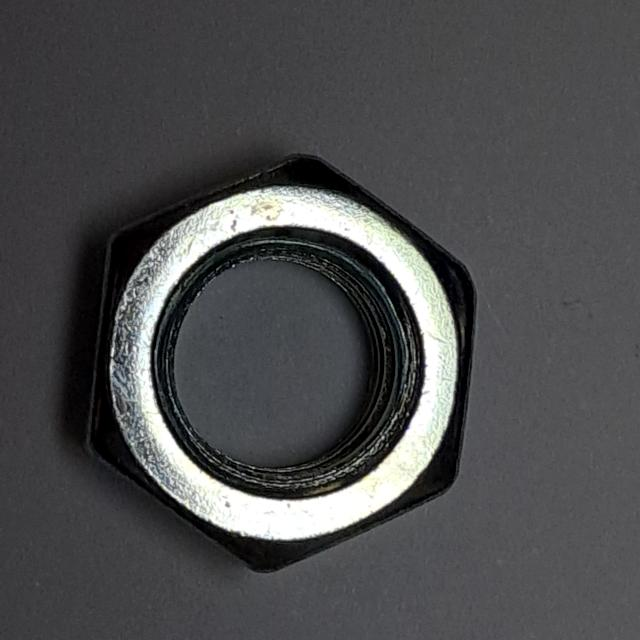Excellent: (70, 145, 486, 584)
